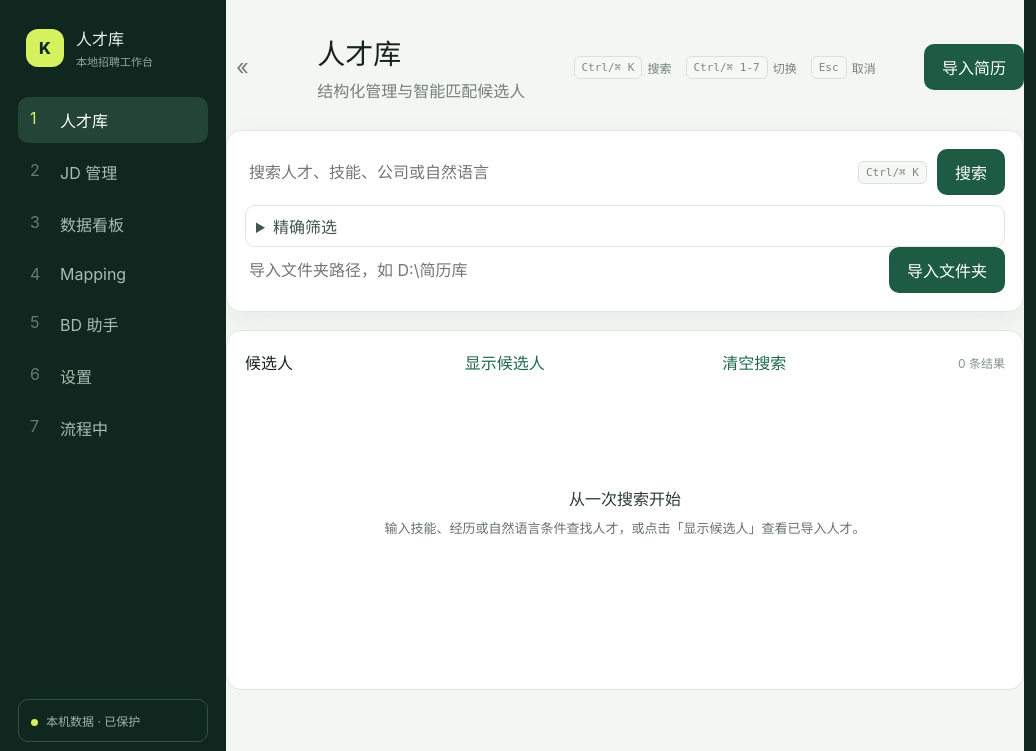
Scenario: reviewed desktop reliability › loads saved settings on entry and removes SerpApi from the form
Click the button "6 设置". click: (113,376)
box: [18,353,208,399]
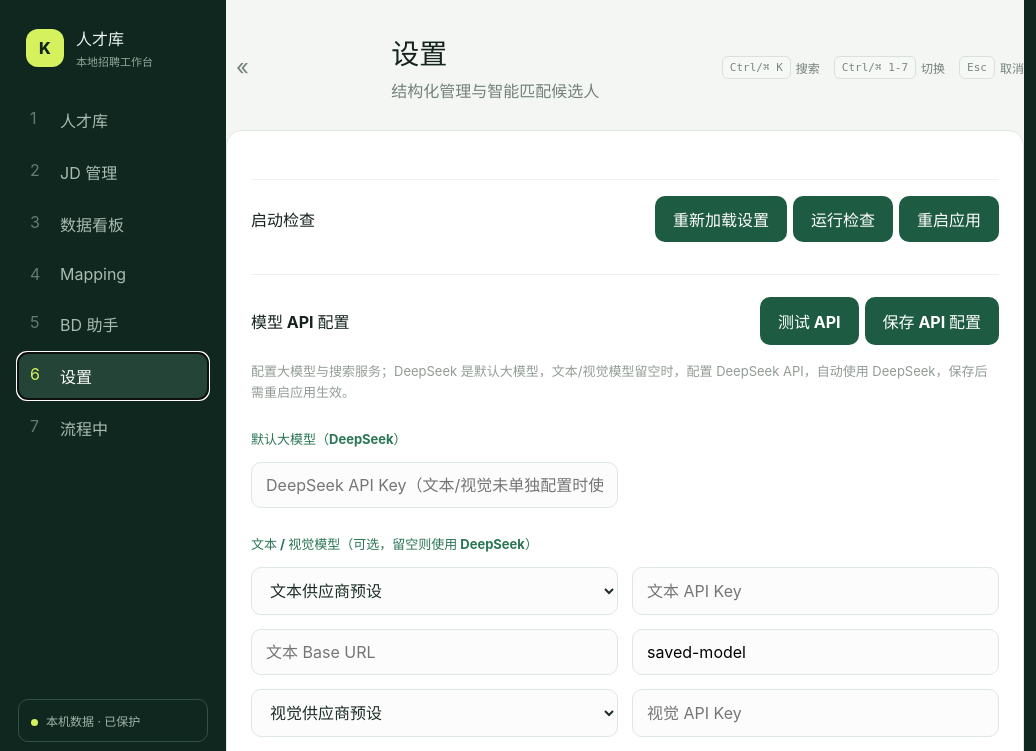
Check: the field showing "saved-model" is shown, box [632,629,999,675]
